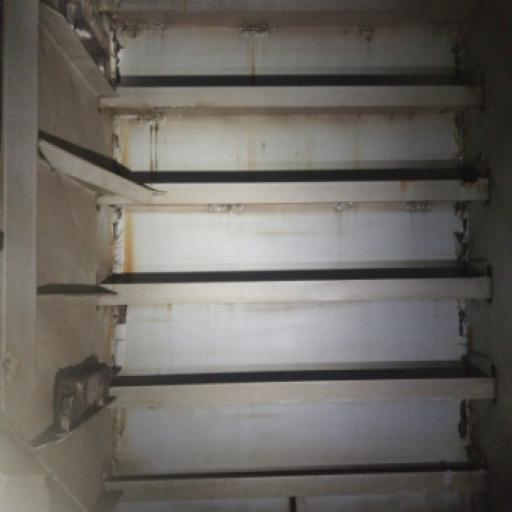Detect-rust-on-metal-surfaces: (117, 205, 142, 283)
